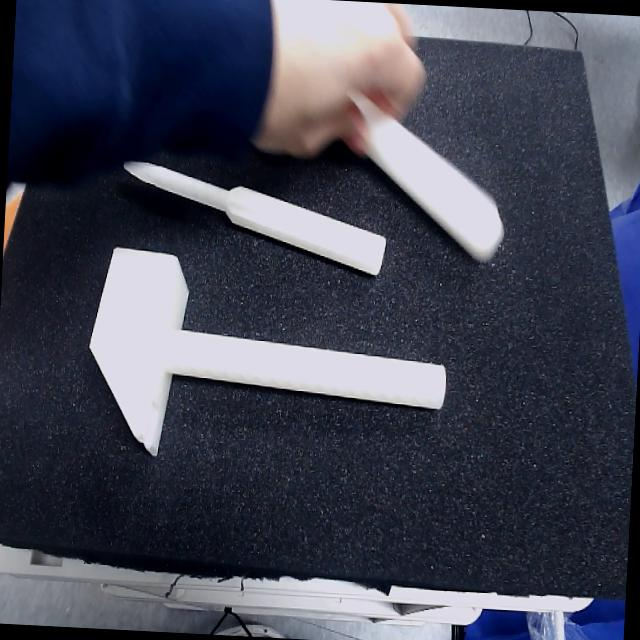Hammer: (89, 248, 447, 458)
